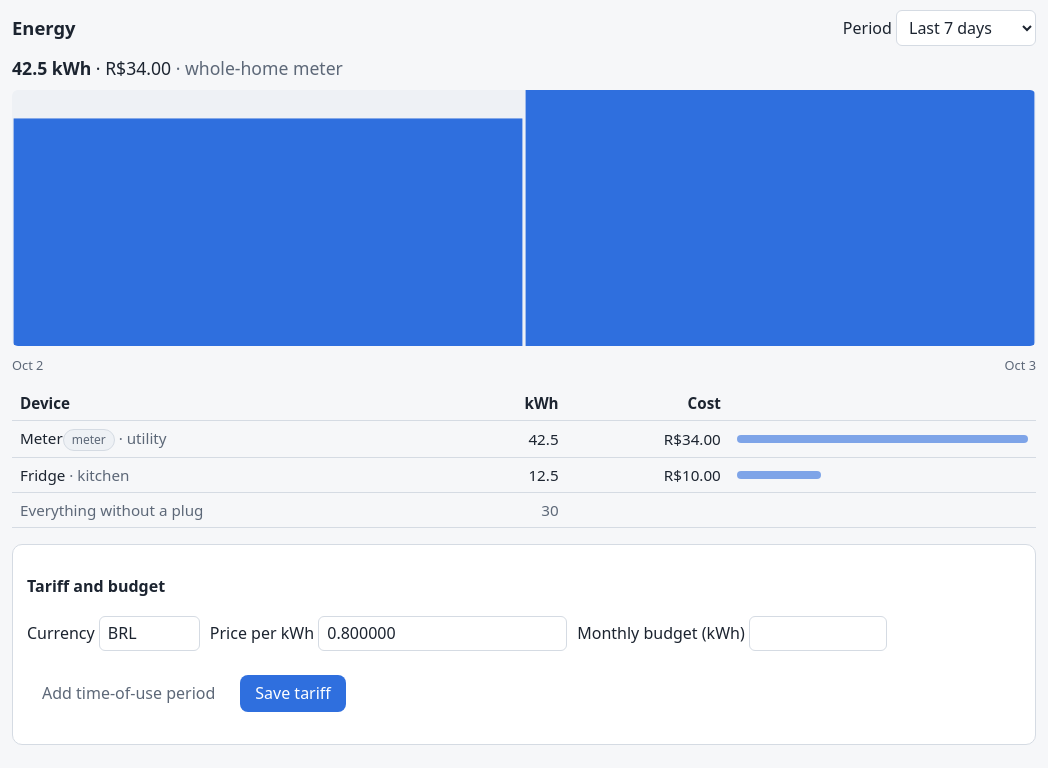
Test: Energy page › saves the tariff with the version it was loaded at
Replace the text in the field labelled "Price per kWh" with "0.912345" at (443, 634), box [318,616,567,651]
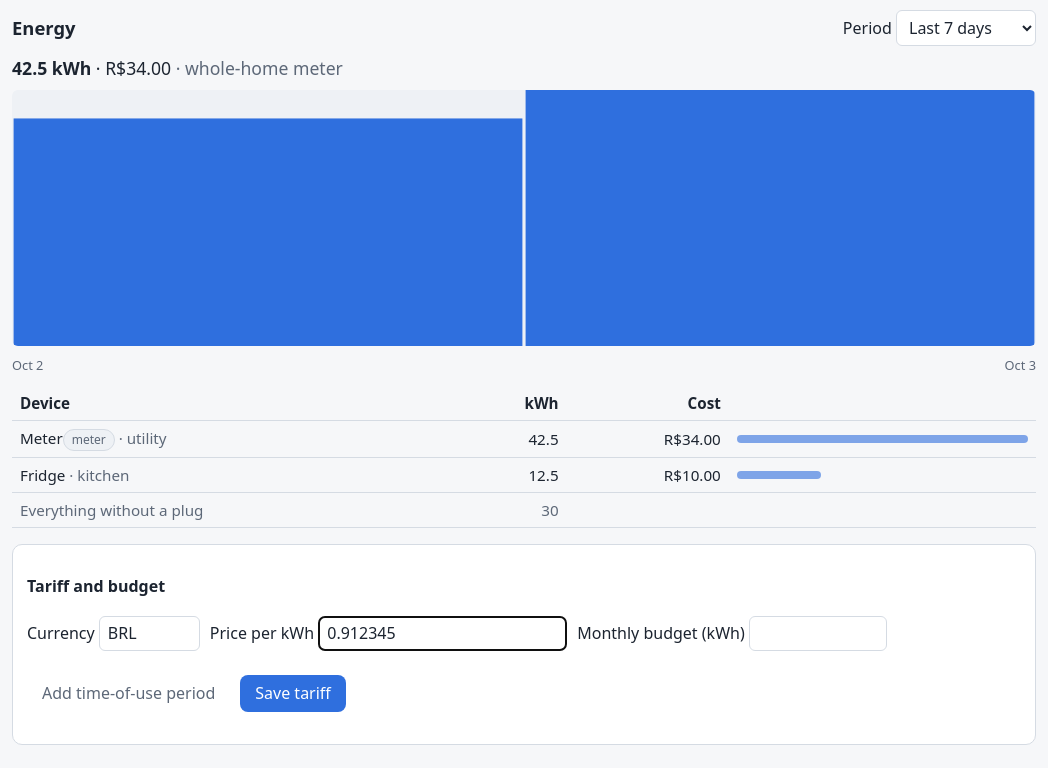
Click the button "Save tariff".
click(293, 694)  # box [240,675,346,712]
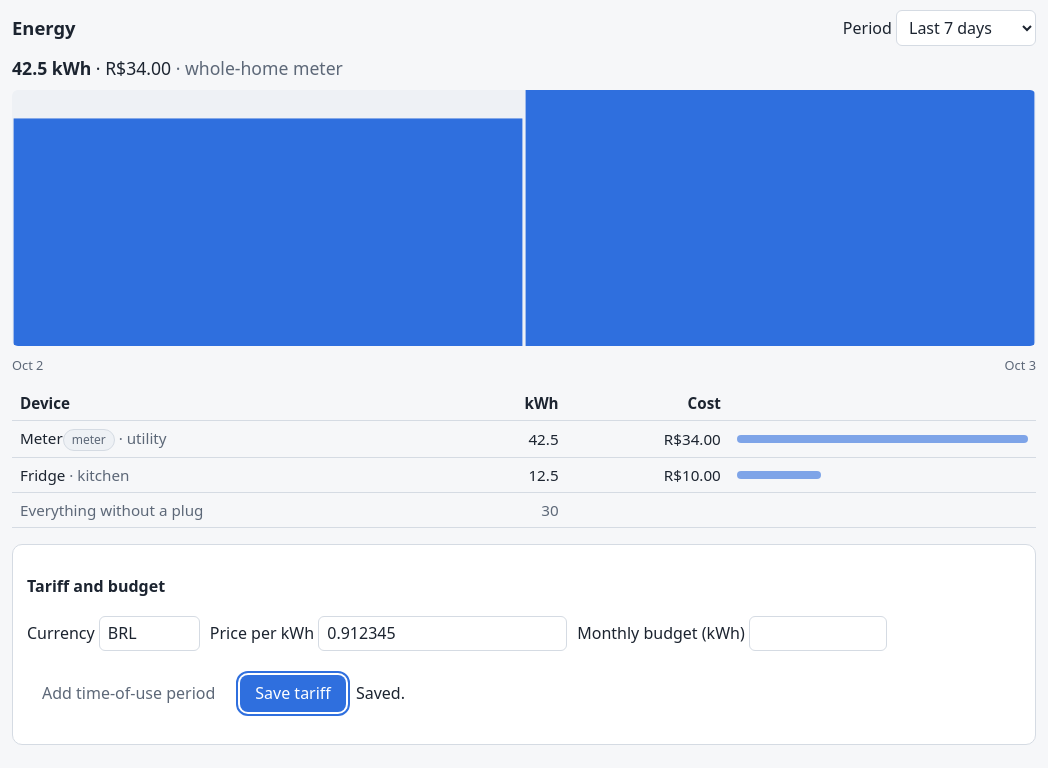
Result: the text "Saved." is shown at [356,682,405,705]
